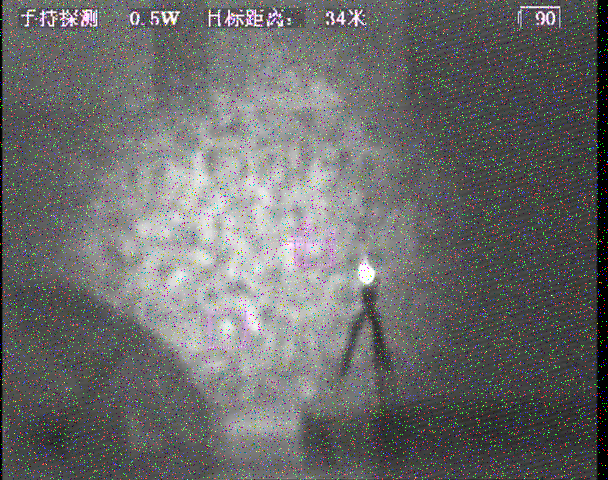my: (356, 260, 376, 286)
